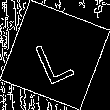L_NW: (31, 26, 79, 84)
